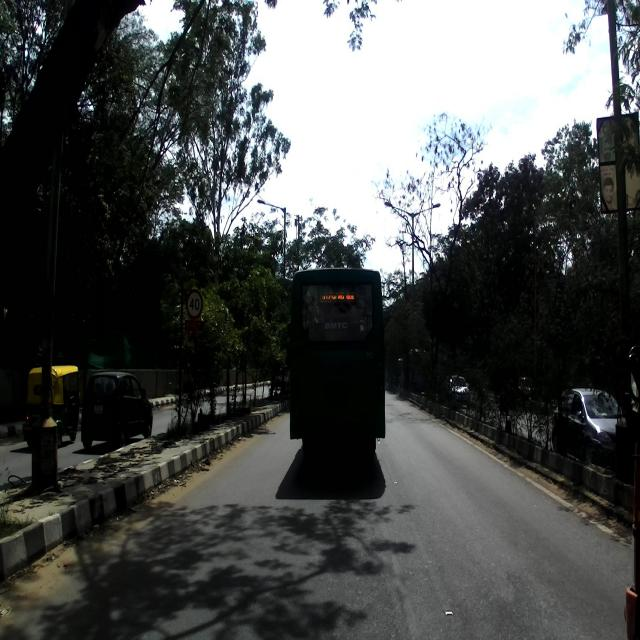autorickshaw: (22, 362, 80, 452)
bus: (288, 264, 387, 456)
car: (552, 386, 628, 473), (80, 371, 152, 450)
